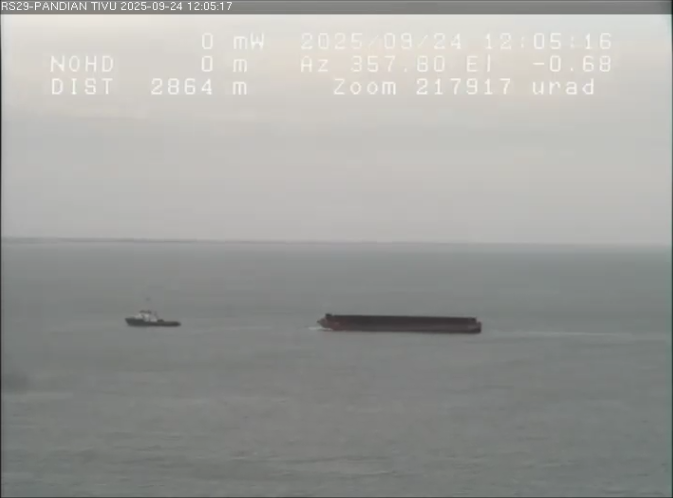BARGE: (287, 288, 503, 350)
OFFSHORE_SUPPLY_VESSEL: (112, 284, 192, 336)
TOWING: (84, 249, 540, 392)
